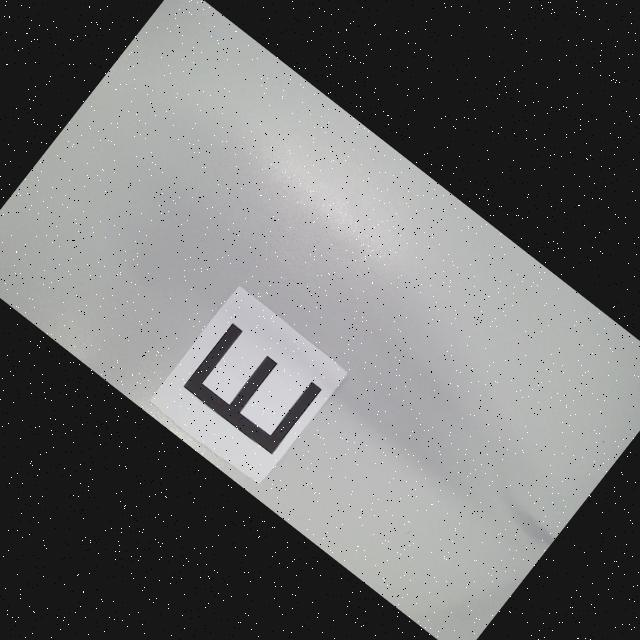FAKE: (182, 322, 322, 456)
